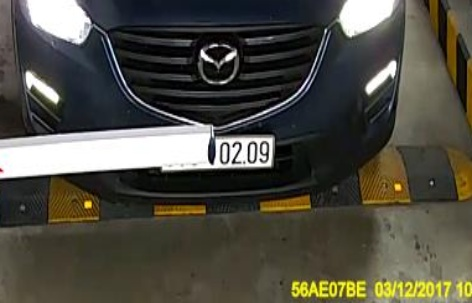plate: (155, 125, 282, 177)
